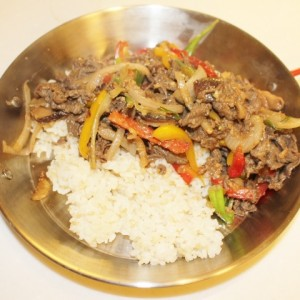bulgogi: (41, 52, 283, 146)
